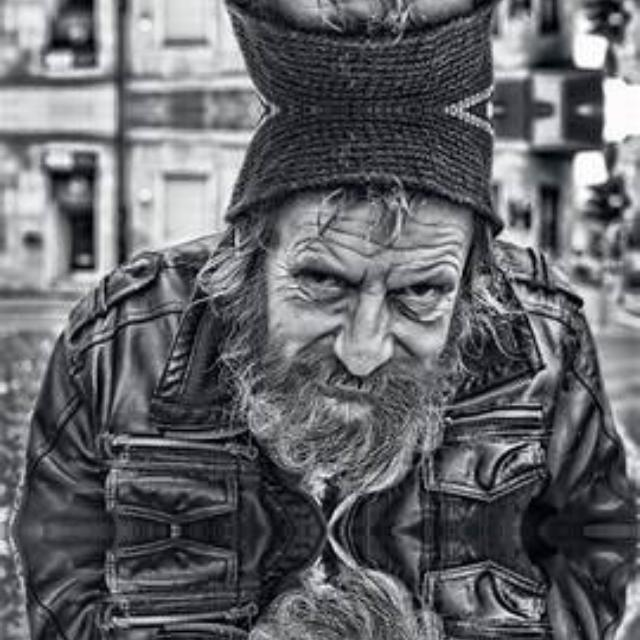person: (81, 109, 604, 531), (80, 0, 603, 109), (80, 531, 603, 640)
